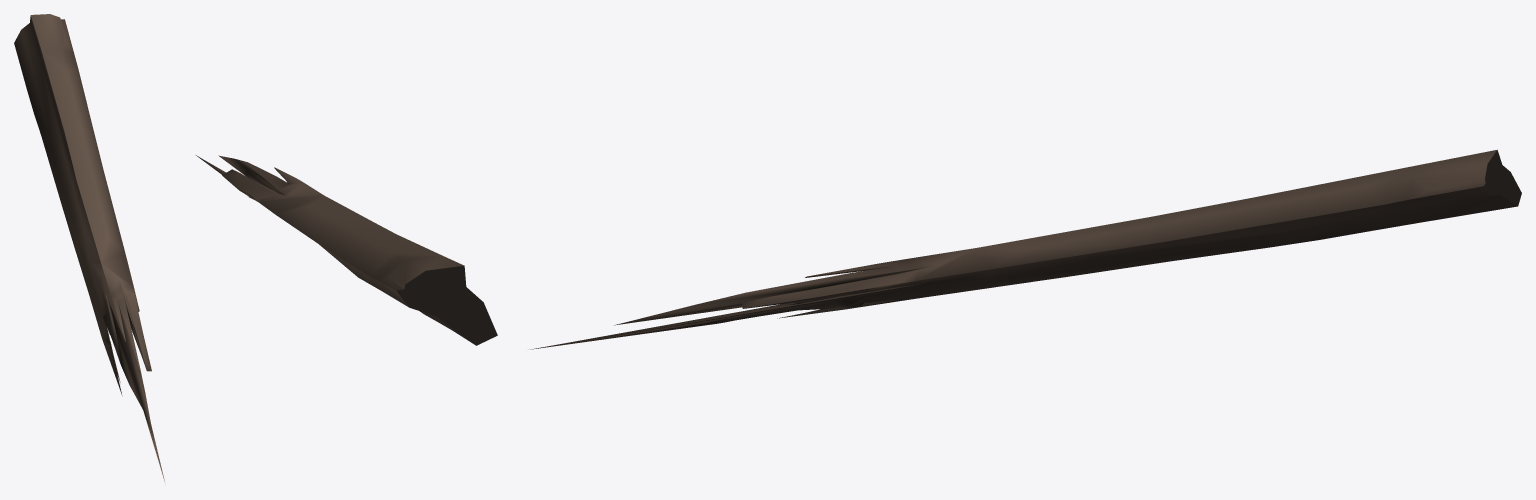
The model's file is trees-dead-trees-wood-wood-splinter_v7.fbx.
3 renders of one model, left to right at view 1: azimuth 30°, elevation 25°; view 2: azimuth 210°, elevation 25°; view 3: azimuth 270°, elevation 25°, orthographic. The views are drawn at different scales.
Parts seen in each view (by area): view 1: Wood Splinter_v7; view 2: Wood Splinter_v7; view 3: Wood Splinter_v7.
Boxes of the visible parts, box(x1,y1,x2,y2) form: Wood Splinter_v7: box(14, 14, 164, 481); Wood Splinter_v7: box(196, 155, 497, 345); Wood Splinter_v7: box(530, 149, 1521, 349).
Size of the model in its own units: 0.1103 by 0.1104 by 0.3.
